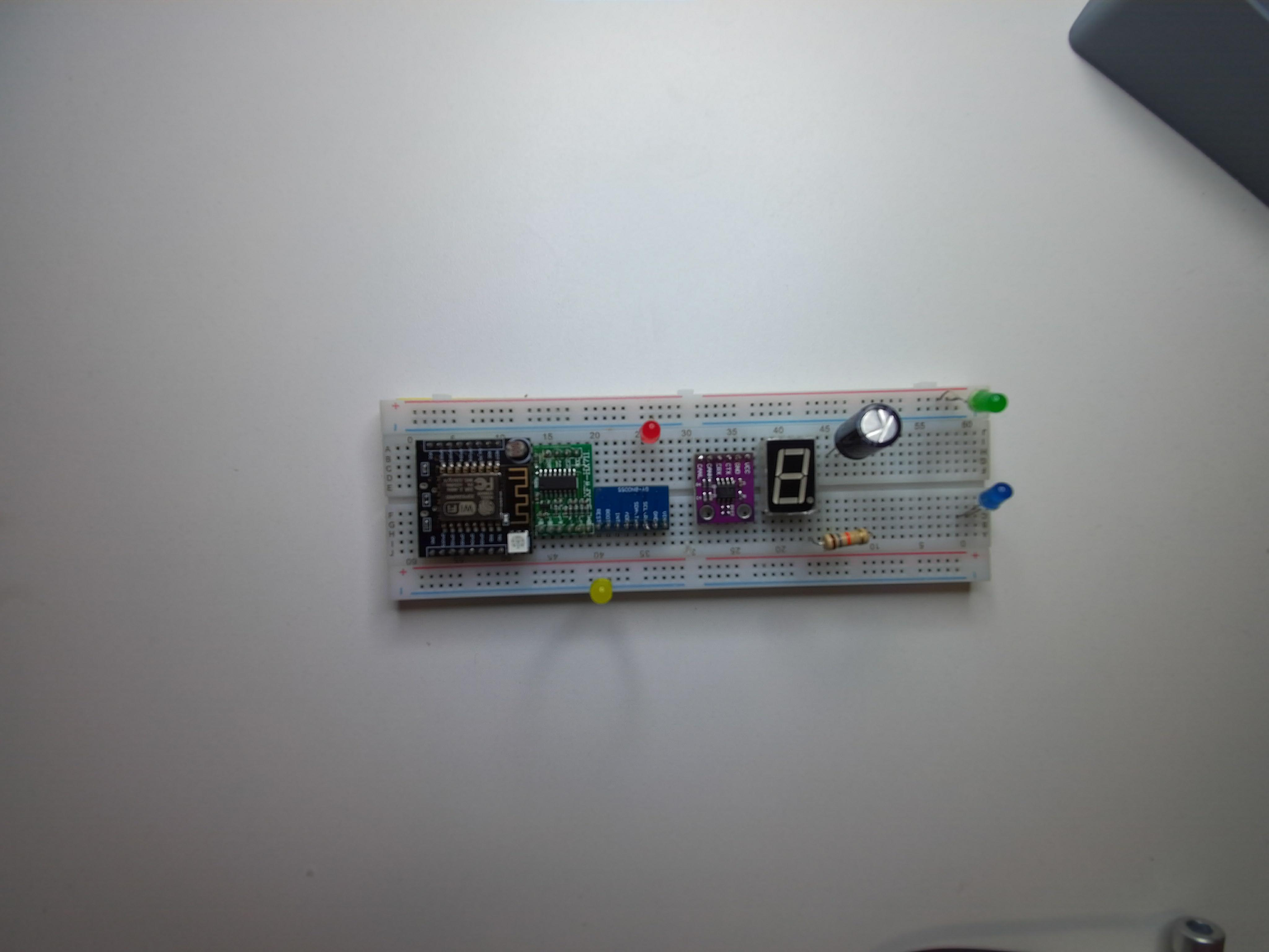base: (381, 388, 991, 603)
blue-board: (594, 484, 670, 535)
blue-led: (977, 479, 1012, 517)
capacitor: (828, 401, 901, 467)
digit-board: (763, 436, 819, 522)
esp: (409, 432, 535, 565)
green-board: (532, 441, 596, 540)
green-led: (967, 388, 1009, 417)
purple-board: (692, 450, 758, 530)
red-led: (635, 417, 669, 445)
resistor-big: (818, 528, 872, 552)
yellow-led: (582, 572, 617, 609)
